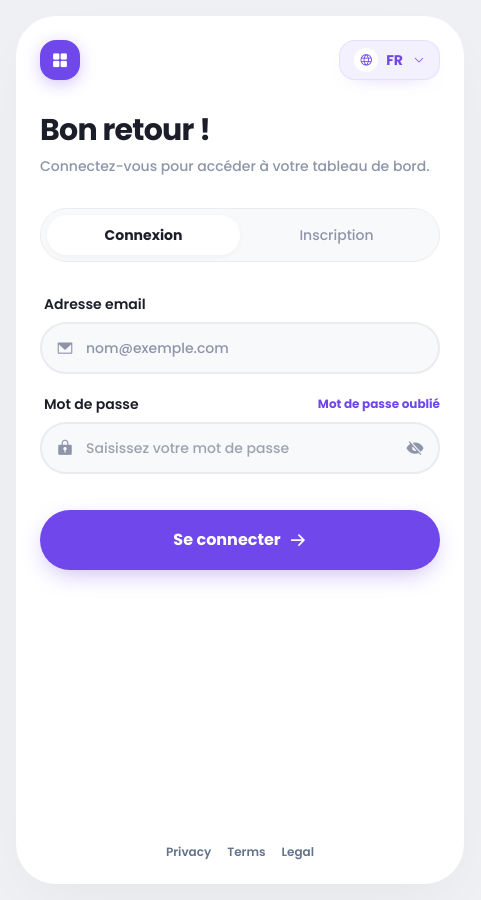
Test: App › toggles password visibility from the auth page
This screenshot has width=481, height=900.
Click the button named "Afficher le mot de passe" at (423, 448), box [406,422,440,474]
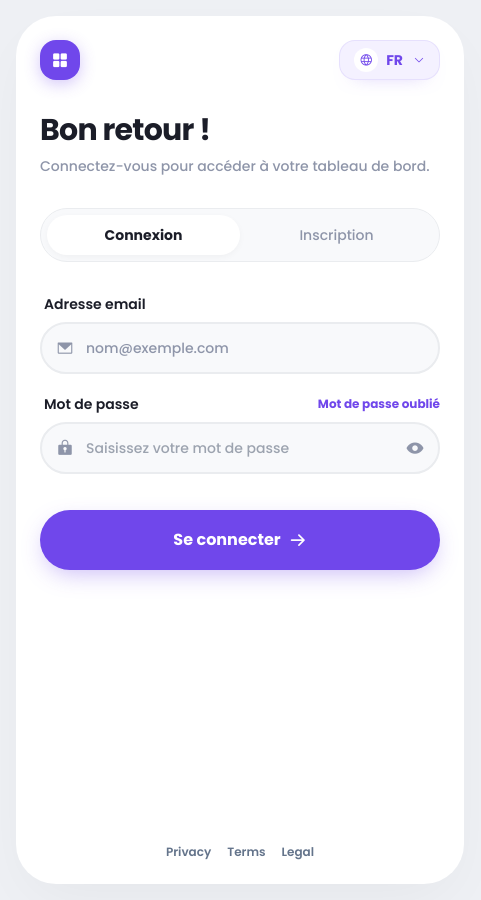
Check: the button named "Masquer le mot de passe" is shown, box [406,422,440,474]
